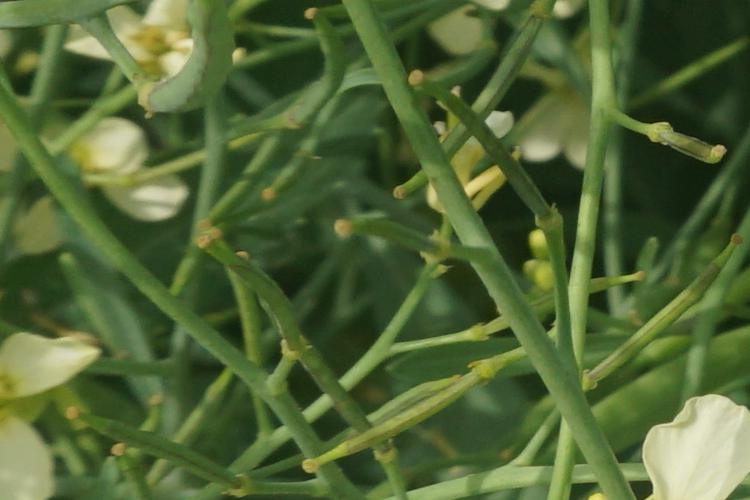pod: (573, 217, 740, 410), (414, 67, 573, 229), (279, 365, 522, 467), (454, 248, 669, 331), (266, 19, 371, 153), (182, 225, 288, 338), (243, 116, 349, 215), (312, 209, 486, 268), (606, 100, 734, 168)
white: (37, 106, 173, 216), (86, 15, 250, 91)
